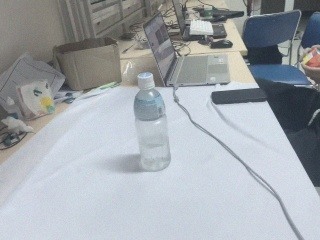bottle: (132, 71, 172, 173)
box: (55, 37, 122, 92)
mouse: (211, 36, 233, 49)
phone: (211, 86, 268, 105)
